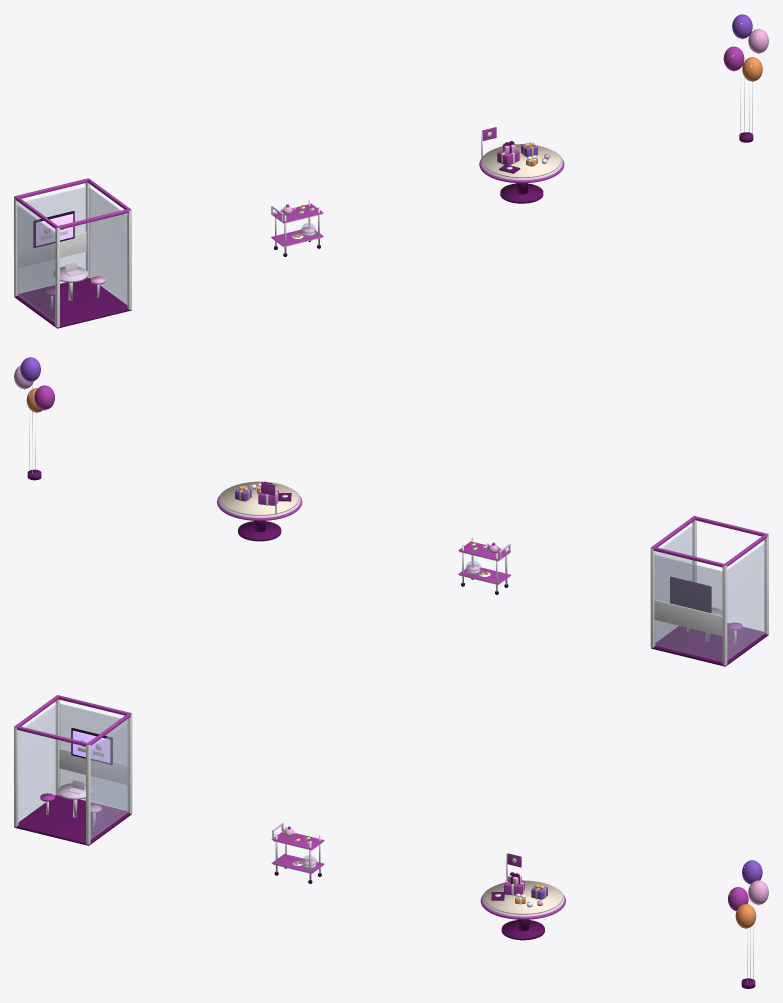
Rendered from client_b.glb.
3 views of the same model, one above another, from view 1: azimuth 30°, elevation 25°; view 2: azimuth 150°, elevation 25°; view 3: azimuth 330°, elevation 25° (orthographic).
Parts seen in each view (by area): view 1: GlassSide, GlassSide.001, GlassBack, PodFloor, Cloth, Frost, PodScreen, Foot; view 2: GlassBack, GlassSide, PodFloor, GlassSide.001, Cloth, Frost, PodScreenFrame, Foot, Post.001, Post.003; view 3: GlassSide.001, GlassSide, GlassBack, PodFloor, Cloth, Frost, PodScreen, Foot, Post.003, Post.001.
Part boxes in pixels (x1,y1,x2,y2): GlassSide: (17,204,55,321); GlassSide.001: (89,187,127,304); GlassBack: (18,186,86,292); PodFloor: (14,278,131,328); Cloth: (483,144,560,177); Frost: (18,231,86,267); PodScreen: (36,214,73,245); Foot: (500,183,543,203); GlassBack: (654,555,722,661); GlassSide: (727,542,765,660); PodFloor: (651,623,768,666); GlassSide.001: (655,525,693,642); Cloth: (220,481,298,515); Frost: (654,600,722,636); PodScreenFrame: (670,576,711,613); Foot: (238,521,281,541); Post.001: (722,565,727,665); Post.003: (650,548,655,647); GlassSide.001: (90,721,128,839); GlassSide: (18,704,56,821); GlassBack: (59,703,127,809); PodFloor: (14,795,131,845); Cloth: (484,880,562,914); Frost: (59,748,127,784); PodScreen: (72,730,110,762); Foot: (501,920,544,940); Post.003: (127,714,132,813); Post.001: (55,699,60,795).
Bounding box in the file's own units: 19.54 × 3.11 × 2.01.
